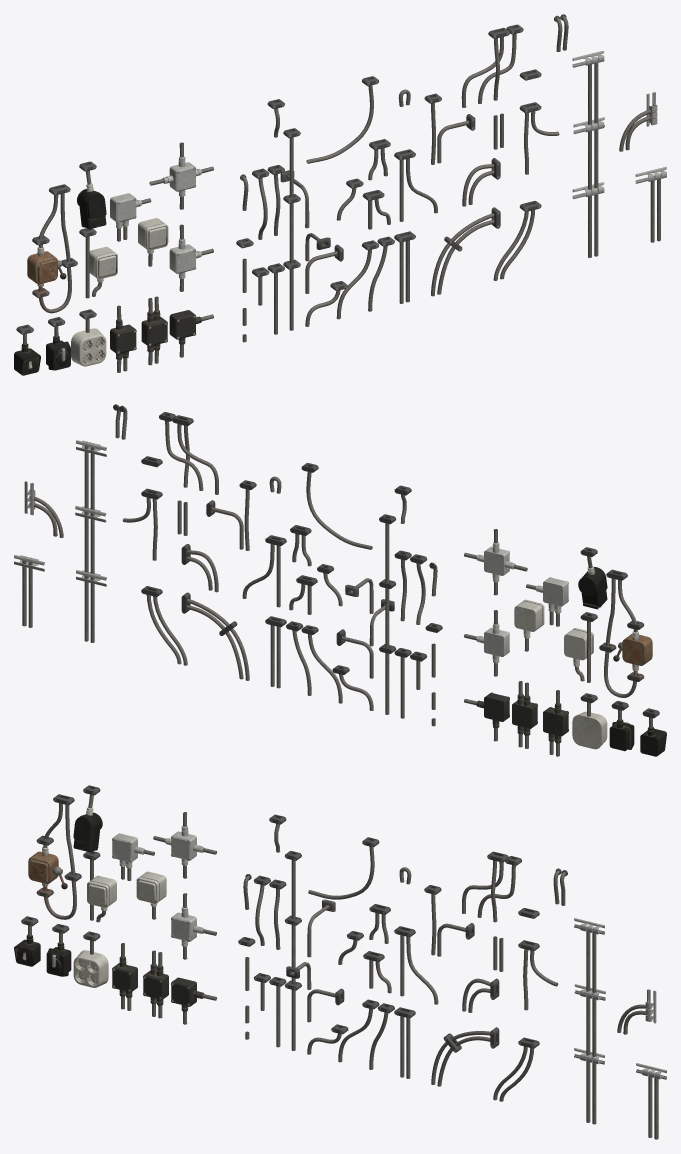
File: modular_electric_cables_2k.gltf
3 renders of one model, top to bottom at view 1: azimuth 30°, elevation 25°; view 2: azimuth 150°, elevation 25°; view 3: azimuth 330°, elevation 25°, orthographic.
Parts seen in each view (by area): view 1: cable_double_alt_long, cable_switch, cable_plug_4x, cable_3way_junction, cable_lightswitch_double, cable_straight_long, cable_plug_covered_2, cable_double_turn_long, cable_box_double, cable_box_4way, cable_box_3way, cable_box_double_to_single (+14 smaller); view 2: cable_double_alt_long, cable_switch, cable_3way_junction, cable_plug_4x, cable_straight_long, cable_lightswitch_double, cable_double_turn_long, cable_plug_covered_2, cable_box_double, cable_box_4way, cable_box_double_to_single_2, cable_box_3way (+14 smaller); view 3: cable_double_alt_long, cable_switch, cable_plug_4x, cable_3way_junction, cable_straight_long, cable_plug_covered_2, cable_lightswitch_double, cable_box_4way, cable_box_double, cable_double_turn_long, cable_box_3way, cable_box_double_to_single (+14 smaller).
Boxes of the visible parts, x1,y1,x2,y2 form: cable_double_alt_long: [572, 50, 604, 257]; cable_switch: [27, 184, 77, 313]; cable_plug_4x: [71, 309, 106, 366]; cable_3way_junction: [461, 24, 523, 107]; cable_lightswitch_double: [79, 228, 117, 298]; cable_straight_long: [283, 128, 300, 330]; cable_plug_covered_2: [77, 161, 106, 228]; cable_double_turn_long: [431, 207, 500, 296]; cable_box_double: [141, 296, 167, 365]; cable_box_4way: [149, 142, 213, 209]; cable_box_3way: [169, 224, 213, 291]; cable_box_double_to_single: [110, 305, 136, 372]; cable_double_alt_long: [75, 440, 106, 642]; cable_switch: [599, 569, 652, 697]; cable_3way_junction: [159, 412, 218, 494]; cable_plug_4x: [572, 693, 607, 749]; cable_straight_long: [379, 514, 396, 714]; cable_lightswitch_double: [564, 612, 597, 682]; cable_double_turn_long: [181, 592, 249, 680]; cable_plug_covered_2: [578, 547, 607, 609]; cable_box_double: [512, 681, 537, 748]; cable_box_4way: [464, 529, 527, 595]; cable_box_double_to_single_2: [526, 577, 568, 626]; cable_box_3way: [464, 610, 509, 676]; cable_double_alt_long: [574, 918, 605, 1124]; cable_switch: [28, 794, 81, 919]; cable_plug_4x: [73, 931, 108, 987]; cable_3way_junction: [462, 851, 521, 922]; cable_straight_long: [284, 851, 301, 1050]; cable_plug_covered_2: [73, 785, 102, 852]; cable_lightswitch_double: [83, 851, 116, 922]; cable_box_4way: [153, 812, 216, 878]; cable_box_double: [143, 950, 168, 1018]; cable_double_turn_long: [431, 1027, 499, 1086]; cable_box_3way: [171, 893, 216, 959]; cable_box_double_to_single: [112, 943, 137, 1010].
Size of the model in its own units: 2.08 by 0.7573 by 0.2145.
2 materials, 2 textured.
